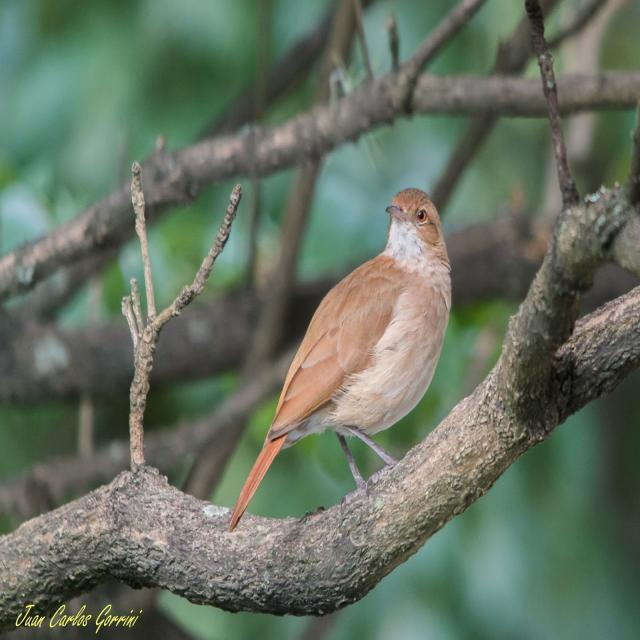bird: (200, 155, 466, 534)
